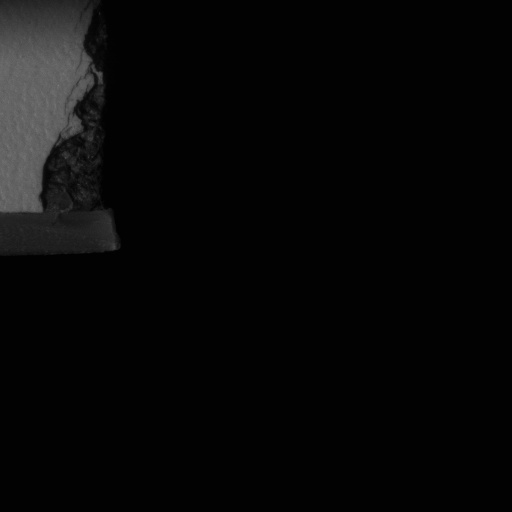bengque: (39, 81, 102, 213), (81, 13, 102, 78)
